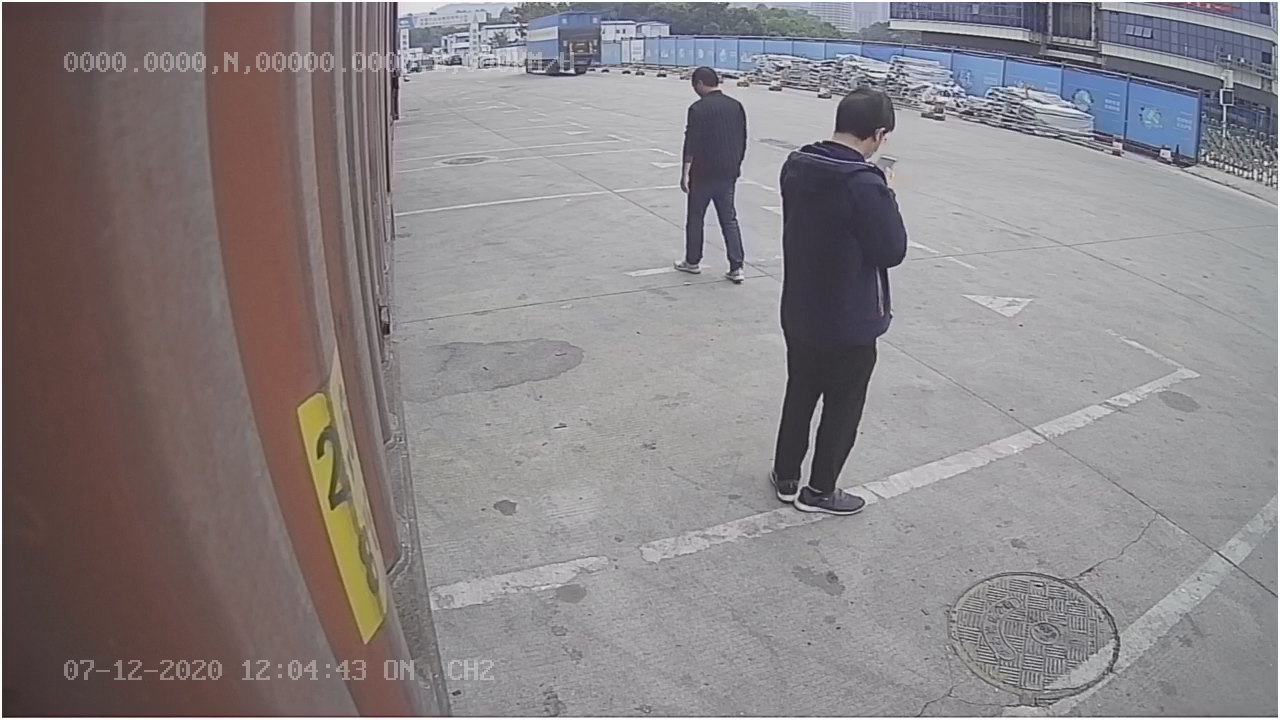person: (765, 79, 912, 521), (670, 63, 752, 287)
